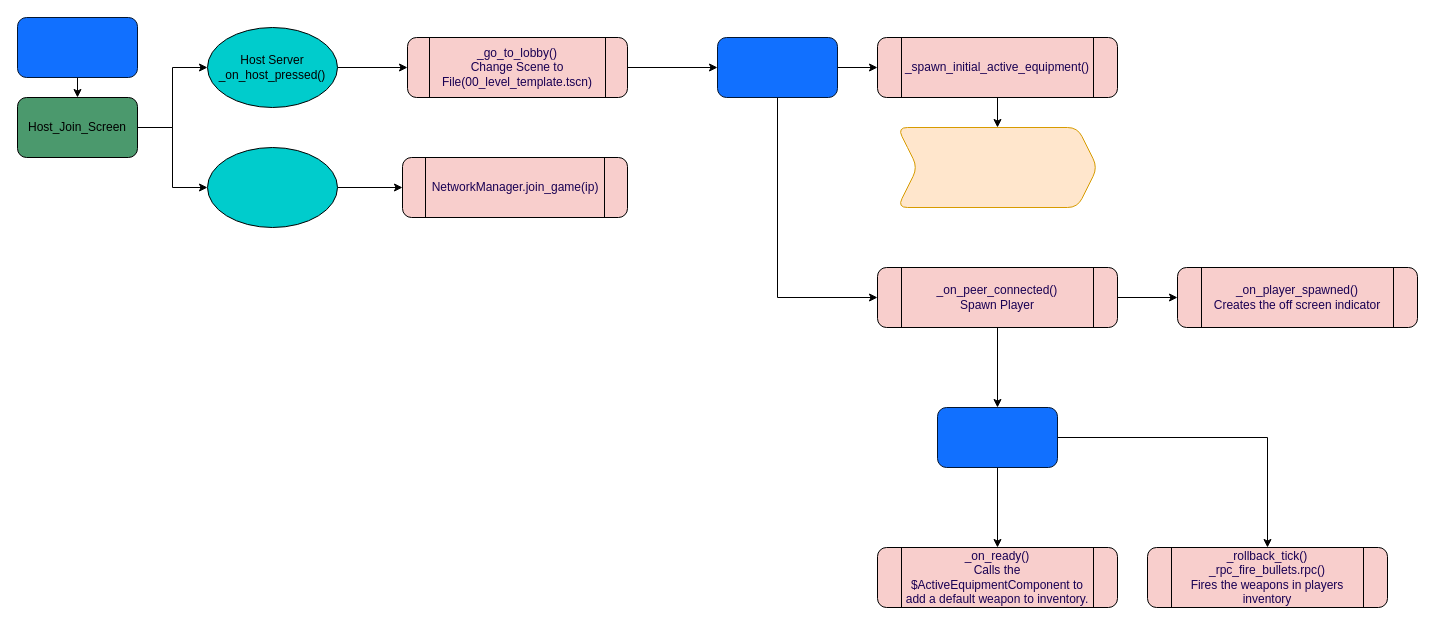
Image size: 1435x625. Some labels were removed from this diagram. Each missing label, with the centre of its shape:
"00_Level_Lobby" belongs at point (77, 47).
"00_Level_Template" belongs at point (777, 67).
"Join Server _on_join_pressed" belongs at point (272, 187).
"SlaetPlayer" belongs at point (997, 437).
"Spawn initial drops in current scene/level" belongs at point (997, 167).
